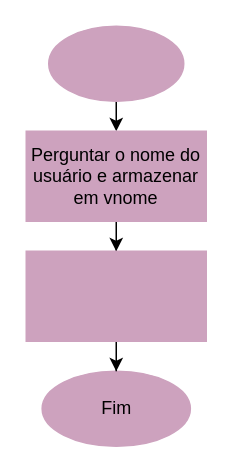
Image size: 233x473. Some labels were removed from this diagram. The shapes that lost their labels are listed below. From the top down, each one's box as (x1, y1, x2, y2) in pixels, then its label:
(47, 25, 184, 101): Início
(25, 250, 206, 341): Exibir mensagem "Olá, {vnome}!"
